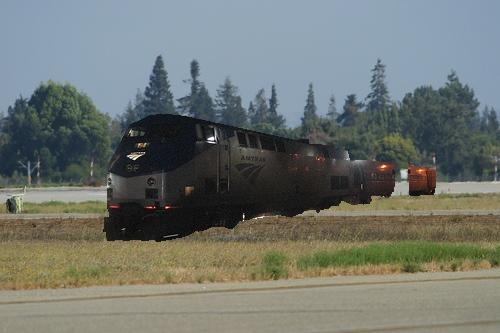tampered: (104, 115, 436, 242)
